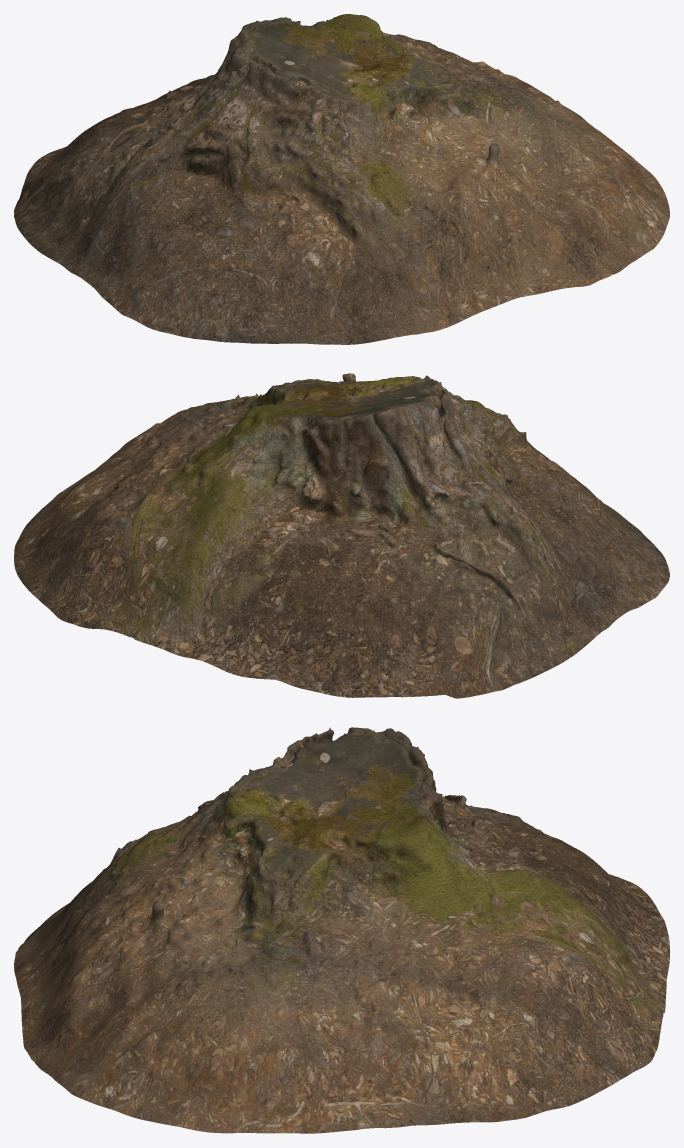
File: tree_stump_02_1k.gltf
3 views of the same model, one above another, from view 1: azimuth 30°, elevation 25°; view 2: azimuth 150°, elevation 25°; view 3: azimuth 270°, elevation 25° (orthographic). The views are drawn at different scales.
Visible parts, largest first — view 1: tree_stump_02; view 2: tree_stump_02; view 3: tree_stump_02.
Boxes of the visible parts, x1,y1,x2,y2 form: tree_stump_02: [14, 14, 669, 344]; tree_stump_02: [14, 373, 669, 698]; tree_stump_02: [14, 727, 669, 1133].
Size of the model in its own units: 1.52 by 0.5221 by 1.39.
Materials: 1 (1 with a texture image).
